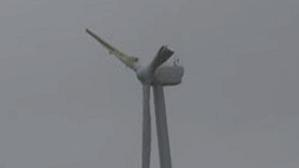faulty: (111, 42, 189, 110)
